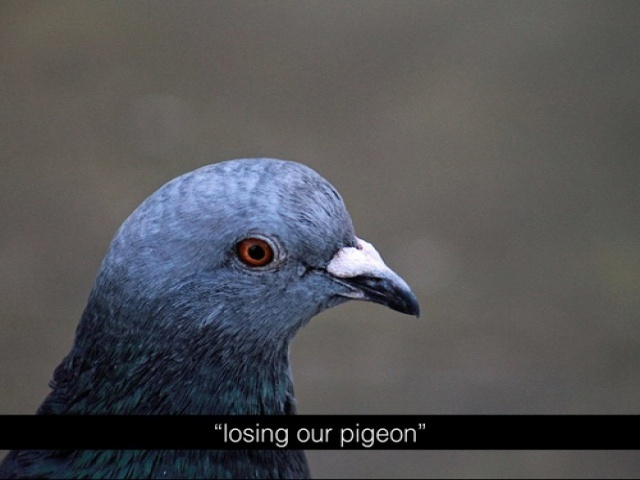Pigeon: (62, 154, 424, 403)
